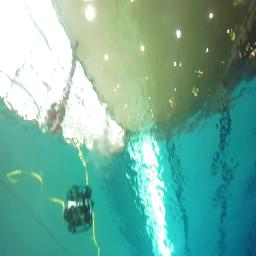Full: (63, 201, 92, 233)
